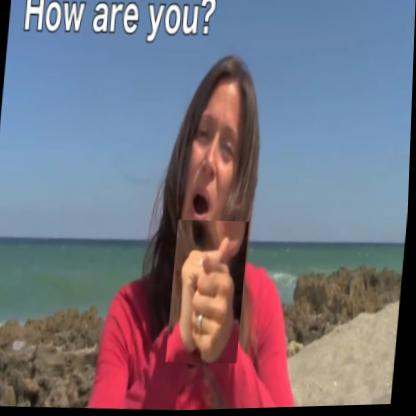HowAreYou: (168, 219, 251, 366)
